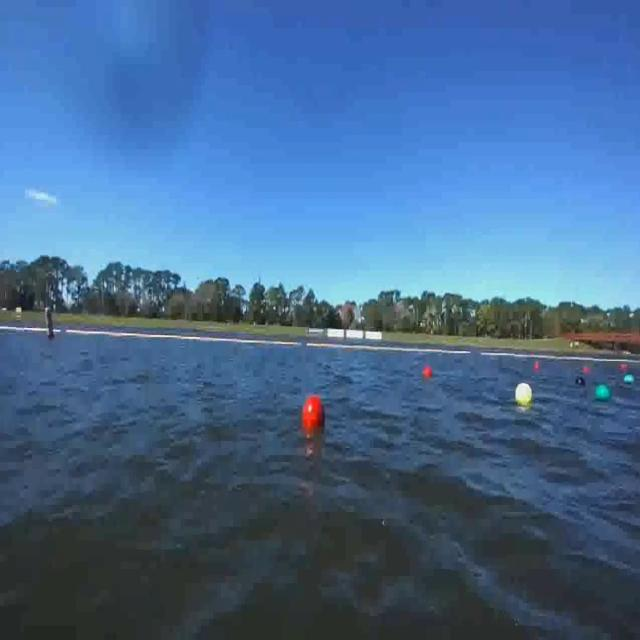black-buoy: (576, 376, 585, 386)
green-buoy: (593, 383, 609, 400), (624, 373, 636, 384)
red-buoy: (304, 396, 325, 431), (423, 365, 433, 378)
yellow-buoy: (514, 380, 531, 405)
